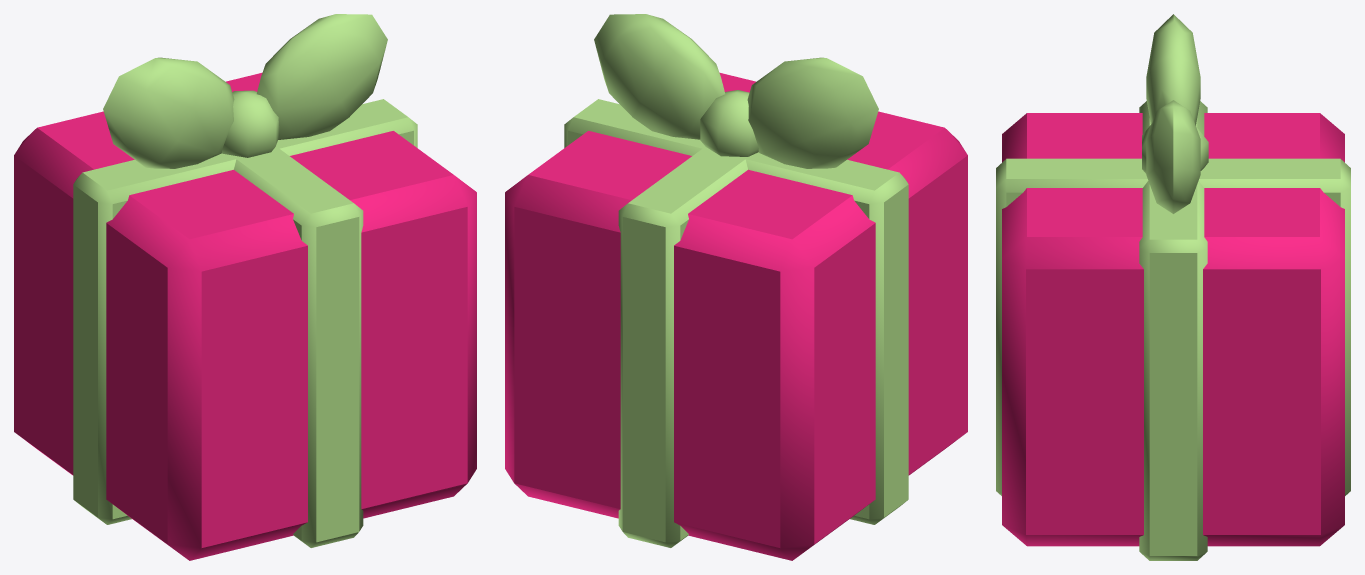
Rendered from W6_GiftBox_A.fbx.
3 renders of one model, left to right at view 1: azimuth 30°, elevation 25°; view 2: azimuth 150°, elevation 25°; view 3: azimuth 270°, elevation 25°, orthographic. The views are drawn at different scales.
Visible parts, largest first — view 1: W6_GiftBox_A; view 2: W6_GiftBox_A; view 3: W6_GiftBox_A.
Boxes of the visible parts, x1,y1,x2,y2 form: W6_GiftBox_A: [14, 14, 476, 560]; W6_GiftBox_A: [505, 14, 967, 560]; W6_GiftBox_A: [996, 14, 1350, 560].
Bounding box in the file's own units: 1.04 × 1.38 × 1.04.
